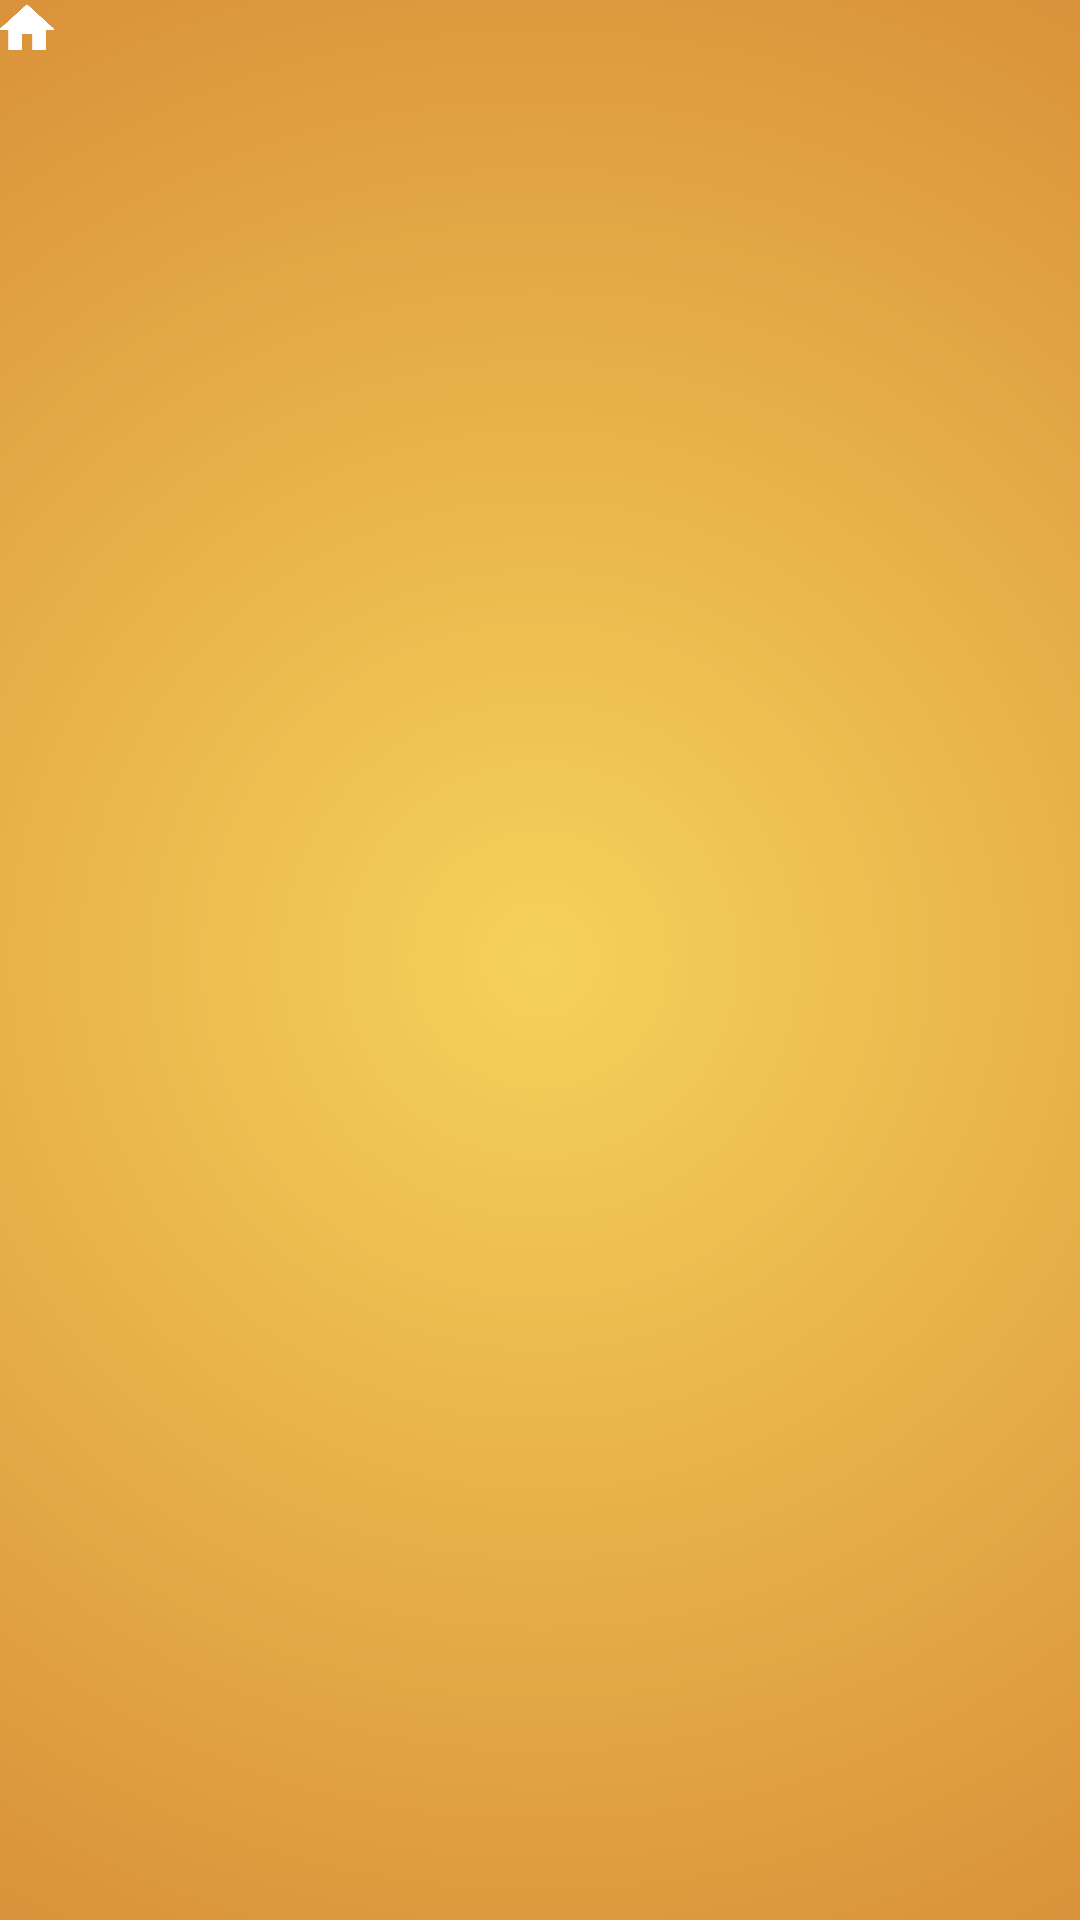

Icon click points for this 1080 x 1920 phone screenshot, format (x,y):
home: (27,27)
